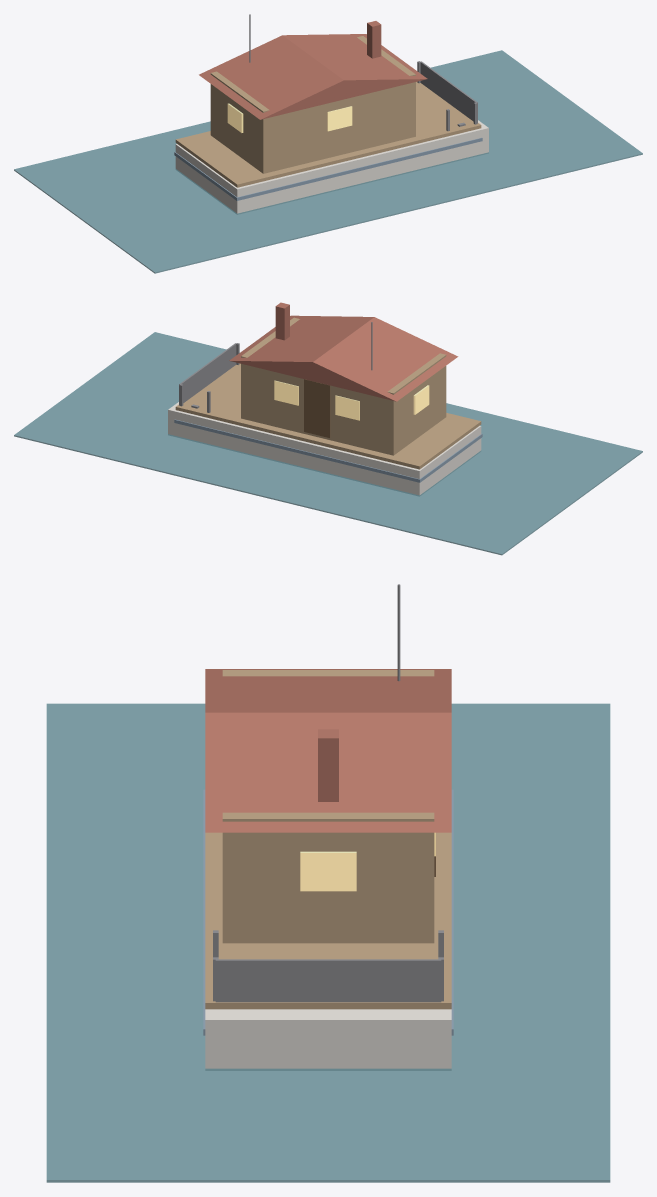
Rendered from houseboat.glb.
The picture shows the model from 3 angles, top to bottom: view 1: azimuth 30°, elevation 25°; view 2: azimuth 150°, elevation 25°; view 3: azimuth 270°, elevation 25°; orthographic projection. The views are drawn at different scales.
Visible parts, largest first — view 1: water, cabin, cabin_roof, hull, deck, trim_band, rail_front, chimney, win_b; view 2: water, cabin_roof, cabin, hull, deck, door, trim_band, rail_front, chimney, win_f_2, win_f_1, bow; view 3: water, cabin_roof, cabin, bow, deck, rail_front, win_r, chimney, trim_band, hull.
Part boxes in pixels (bbox=[...]): water: bbox=[14, 50, 642, 273]; cabin: bbox=[210, 36, 415, 173]; cabin_roof: bbox=[199, 34, 427, 119]; hull: bbox=[175, 128, 481, 214]; deck: bbox=[175, 82, 481, 187]; trim_band: bbox=[174, 137, 482, 200]; rail_front: bbox=[420, 61, 477, 122]; chimney: bbox=[367, 21, 381, 58]; win_b: bbox=[327, 106, 352, 131]; water: bbox=[14, 332, 642, 555]; cabin_roof: bbox=[229, 315, 458, 401]; cabin: bbox=[241, 317, 446, 455]; hull: bbox=[176, 410, 481, 496]; deck: bbox=[175, 363, 481, 469]; door: bbox=[304, 379, 330, 437]; trim_band: bbox=[174, 419, 482, 482]; rail_front: bbox=[179, 343, 236, 404]; chimney: bbox=[275, 302, 289, 340]; win_f_2: bbox=[274, 380, 298, 405]; win_f_1: bbox=[335, 395, 359, 420]; bow: bbox=[168, 402, 183, 438]; water: bbox=[46, 703, 610, 1182]; cabin_roof: bbox=[205, 669, 451, 832]; cabin: bbox=[222, 670, 434, 943]; bow: bbox=[205, 1009, 451, 1070]; deck: bbox=[205, 832, 451, 1009]; rail_front: bbox=[215, 959, 441, 1002]; win_r: bbox=[300, 851, 356, 891]; chimney: bbox=[318, 729, 338, 801]; trim_band: bbox=[203, 789, 453, 1035]; hull: bbox=[205, 1009, 451, 1012].
Bounding box in the file's own units: 16 × 4.7 × 8.
